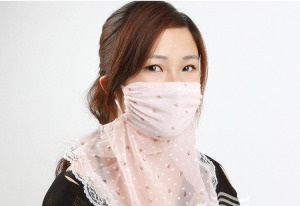face_mask: (122, 48, 203, 128)
